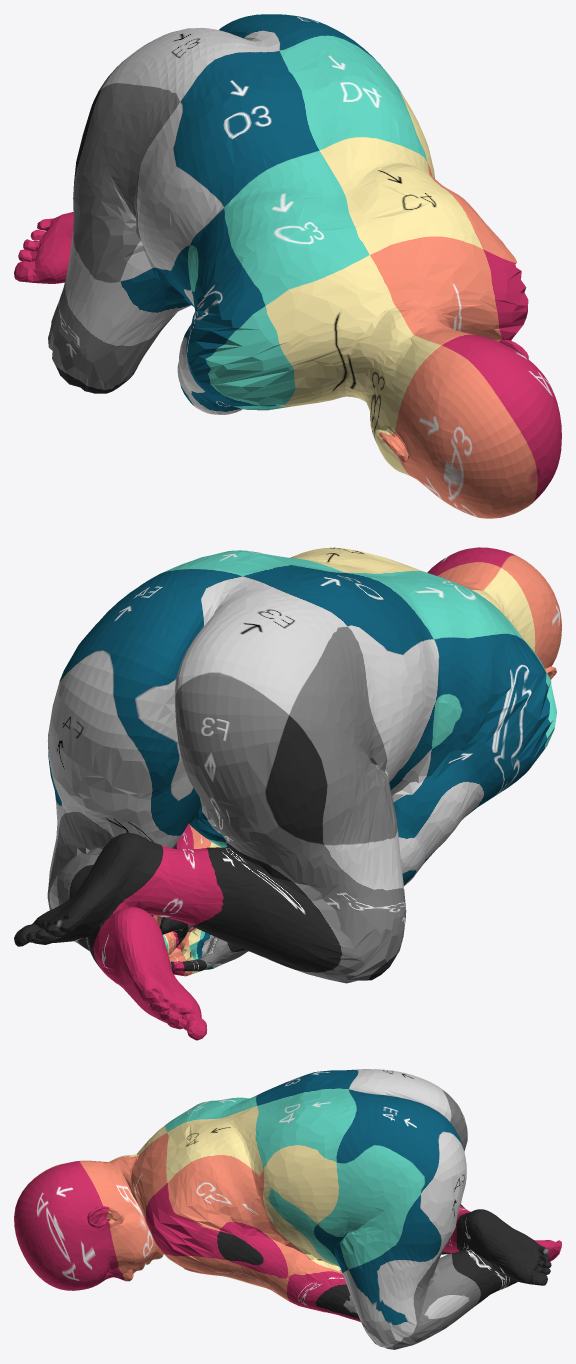
File: kid00-kid14.obj
The picture shows the model from 3 angles, top to bottom: view 1: azimuth 30°, elevation 25°; view 2: azimuth 150°, elevation 25°; view 3: azimuth 270°, elevation 25°; orthographic projection. The views are drawn at different scales.
Visible parts, largest first — view 1: kid00-kid14_export; view 2: kid00-kid14_export; view 3: kid00-kid14_export.
Boxes of the visible parts, x1=… form: kid00-kid14_export: x1=14, y1=14, x2=561, y2=518; kid00-kid14_export: x1=14, y1=547, x2=561, y2=1040; kid00-kid14_export: x1=14, y1=1069, x2=561, y2=1349.
Bounding box in the file's own units: 0.3937 × 0.4103 × 0.8542.
1 material, 1 textured.
